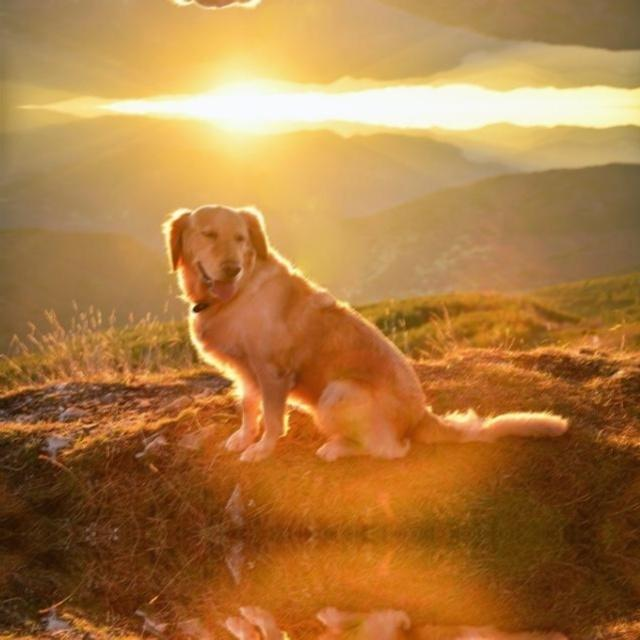dog: (148, 170, 438, 508), (148, 559, 439, 640), (148, 0, 439, 41)
